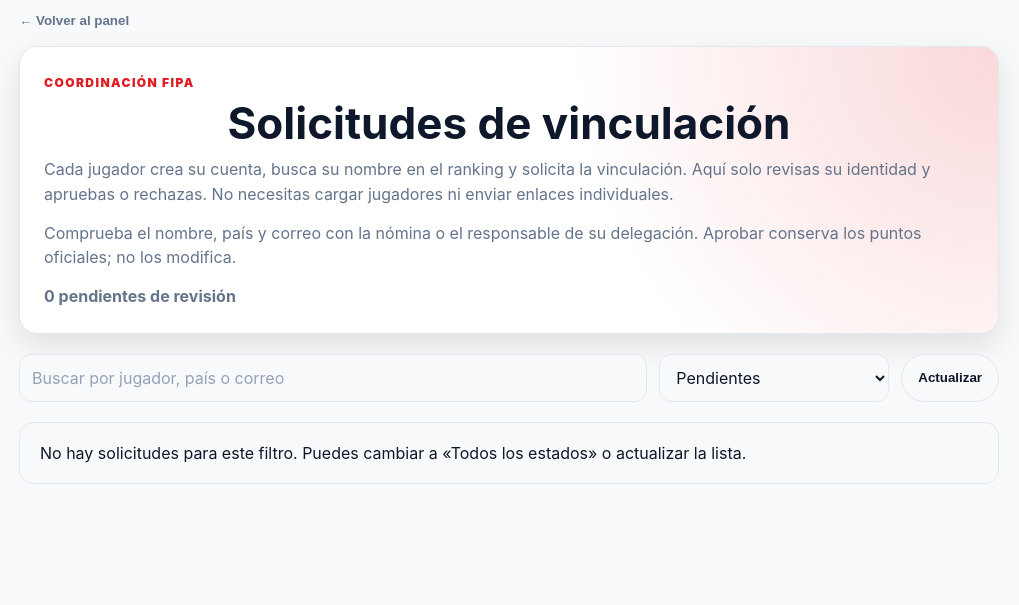
Test: se puede salir de un filtro vacío sin recargar
Expected: the text "No hay solicitudes para este filtro" is shown, [40,443,746,463]
Select "Todos los estados" in the dropdown named "Estado de las solicitudes": (774, 378) [659,354,889,402]
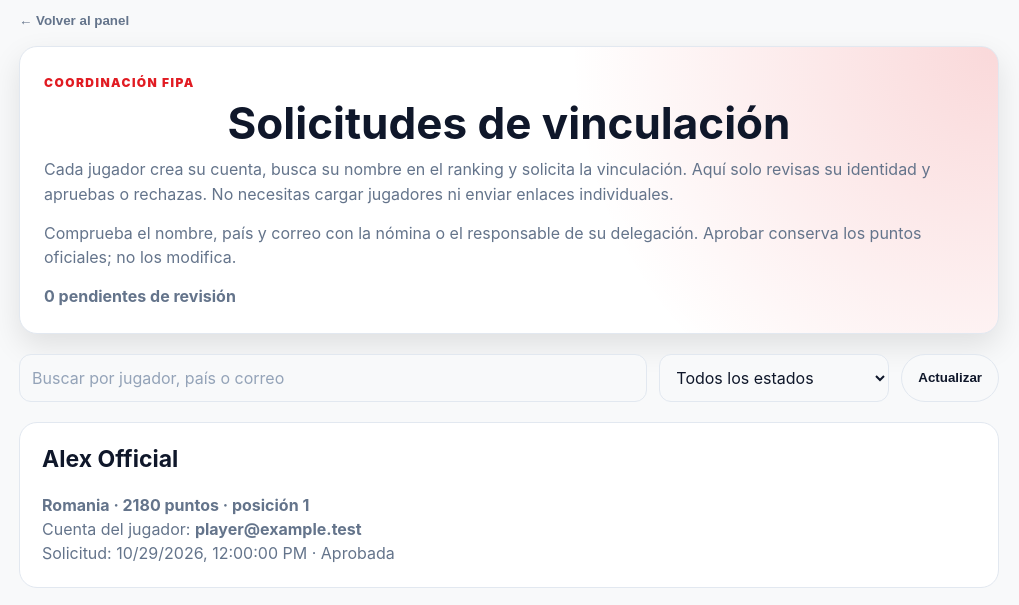
Result: the heading "Alex Official" is shown at [42,445,178,473]
